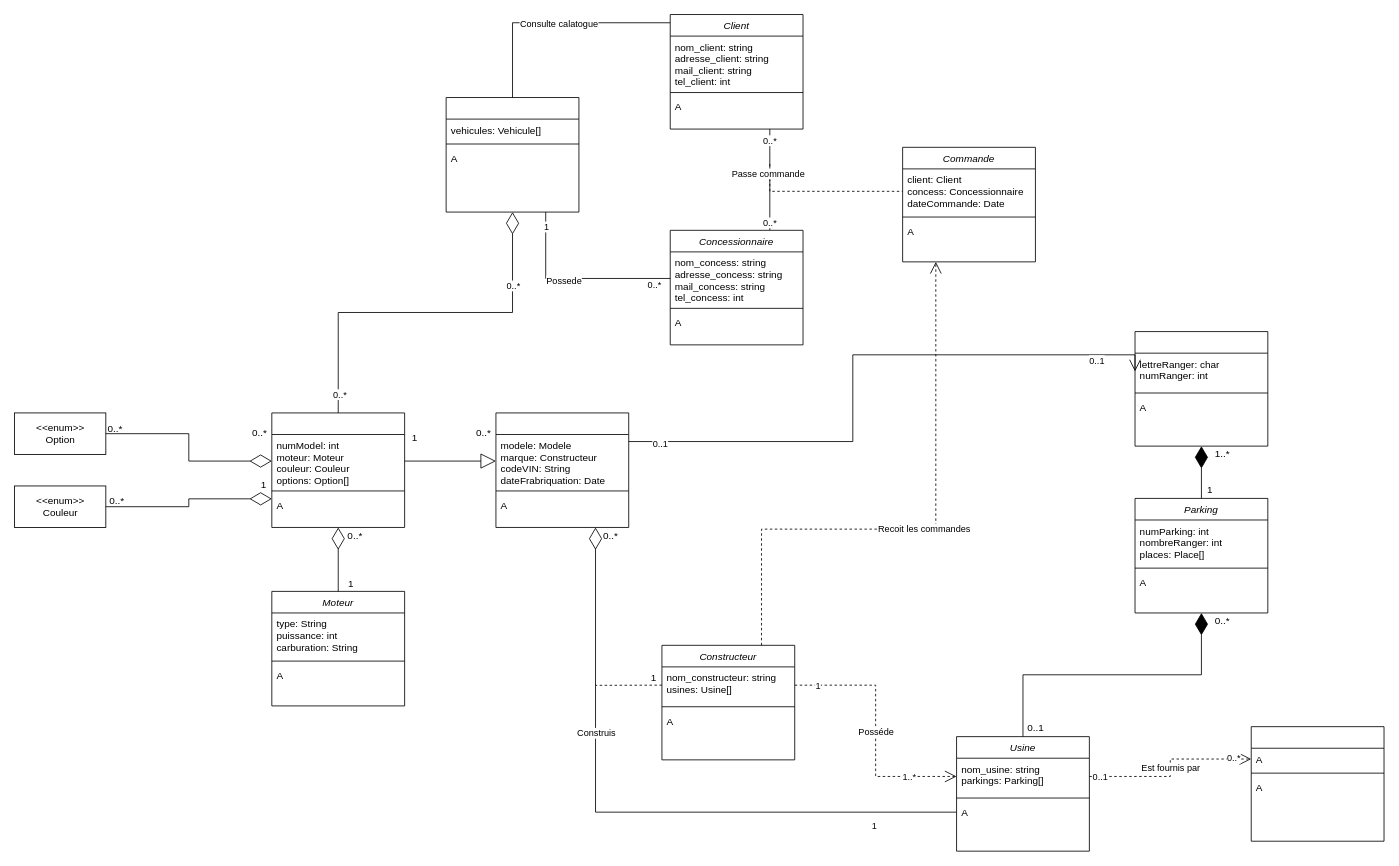
The diagram is 1399 pixels wide and 866 high, and some of its shapes have lost their labels. The box of each missing label's shape, as (x1, y1, x2, y2) in pixels:
Catalogue: (445, 97, 579, 212)
Fournisseur: (1250, 726, 1384, 841)
Modele: (271, 412, 405, 527)
Place de Parking: (1134, 331, 1268, 446)
Vehicule: (495, 412, 629, 527)
